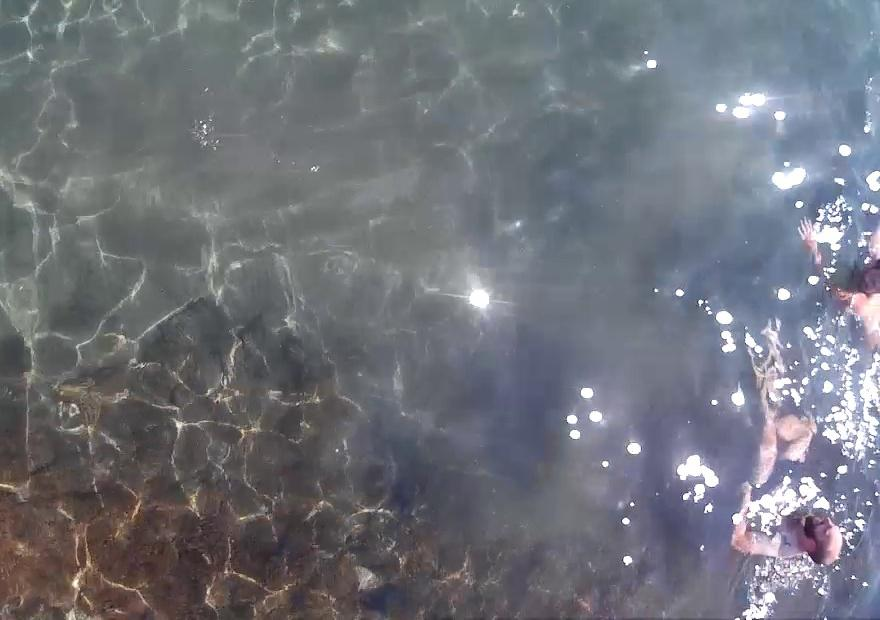swimmer: (716, 336, 866, 598), (801, 180, 877, 370)
